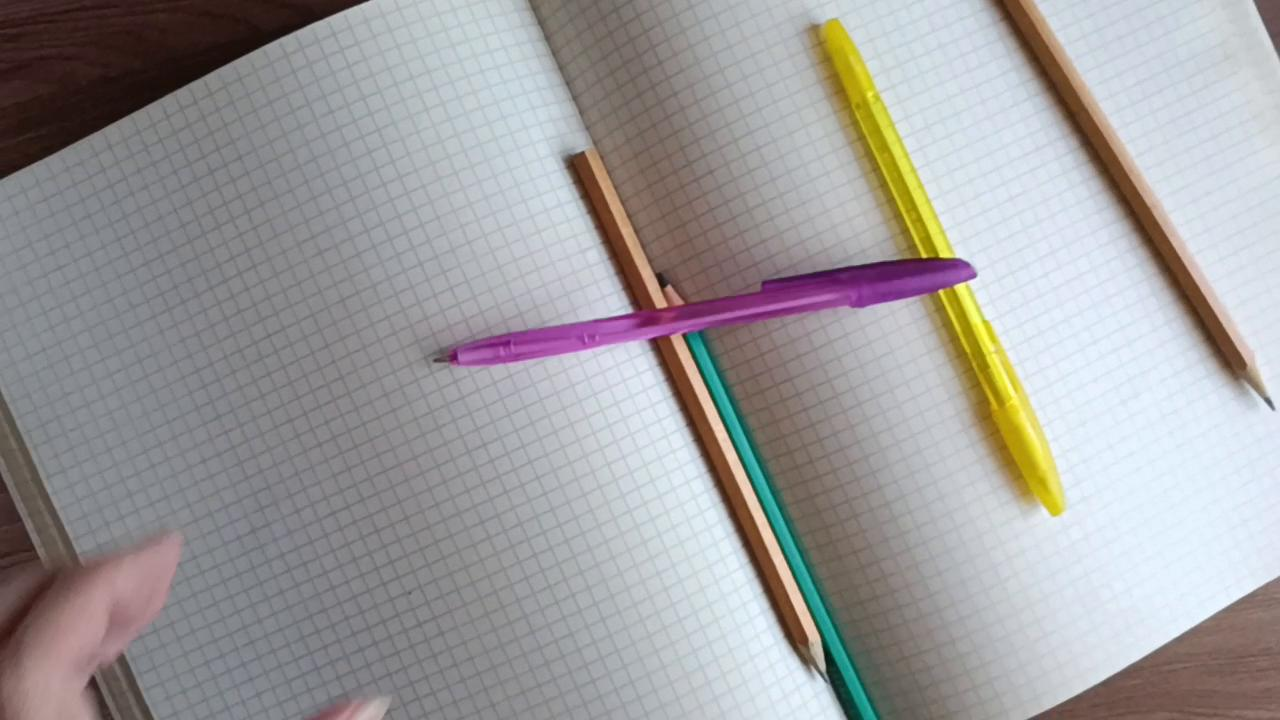pen: (814, 15, 1075, 522), (379, 255, 980, 372)
pencil: (553, 143, 832, 691), (994, 2, 1280, 414), (654, 270, 884, 717)
